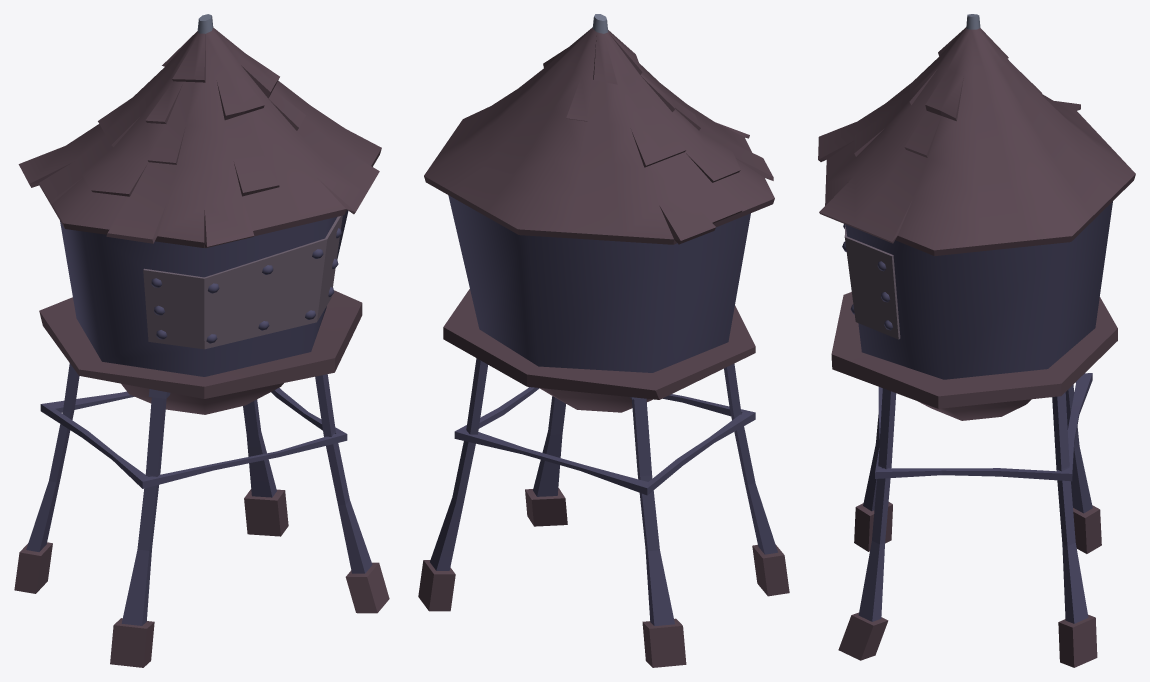
File: RooftopProp_Water_Tower.fbx
3 views of the same model, side by side, from view 1: azimuth 30°, elevation 25°; view 2: azimuth 150°, elevation 25°; view 3: azimuth 270°, elevation 25° (orthographic).
Visible parts, largest first — view 1: RooftopProp_Water_Tower; view 2: RooftopProp_Water_Tower; view 3: RooftopProp_Water_Tower.
Boxes of the visible parts, x1,y1,x2,y2 form: RooftopProp_Water_Tower: (14,14,389,667); RooftopProp_Water_Tower: (418,14,789,667); RooftopProp_Water_Tower: (818,14,1135,667).
Size of the model in its own units: 19.02 by 33.44 by 16.31.
